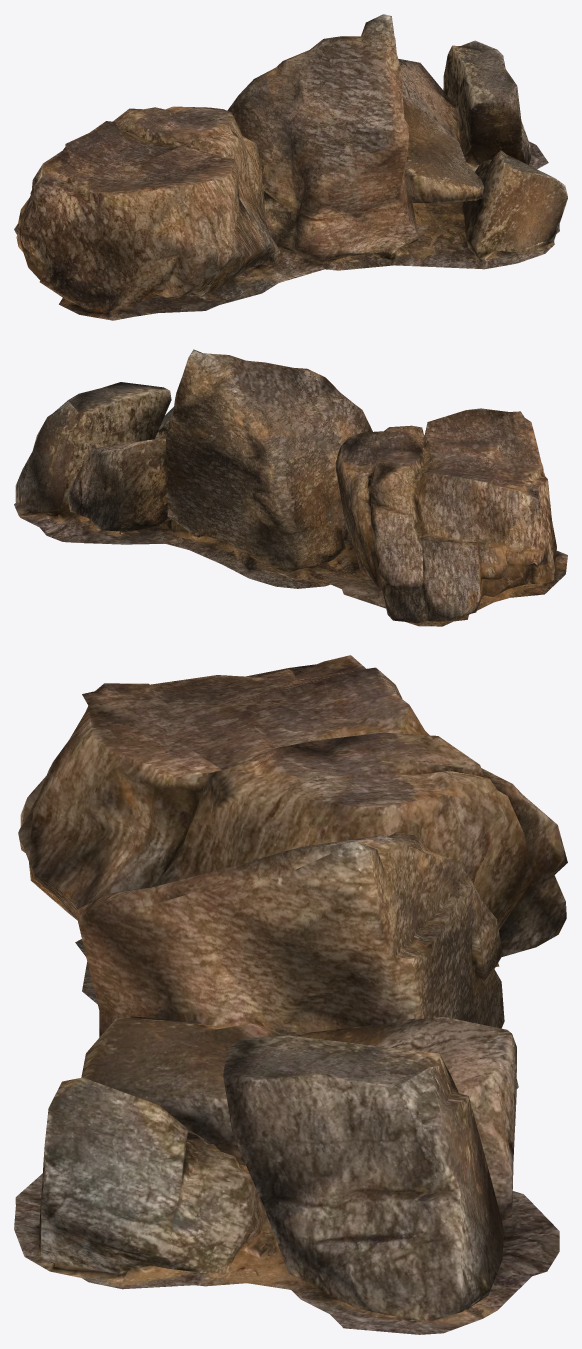
File: boulder_a.glb
The picture shows the model from 3 angles, top to bottom: view 1: azimuth 30°, elevation 25°; view 2: azimuth 150°, elevation 25°; view 3: azimuth 270°, elevation 25°; orthographic projection. The views are drawn at different scales.
Visible parts, largest first — view 1: boulder_02; view 2: boulder_02; view 3: boulder_02.
Boxes of the visible parts, bbox=[...] form: boulder_02: bbox=[14, 14, 567, 320]; boulder_02: bbox=[14, 349, 567, 626]; boulder_02: bbox=[14, 655, 567, 1334].
Size of the model in its own units: 2.52 by 0.8802 by 1.23.
Materials: 1 (1 with a texture image).
